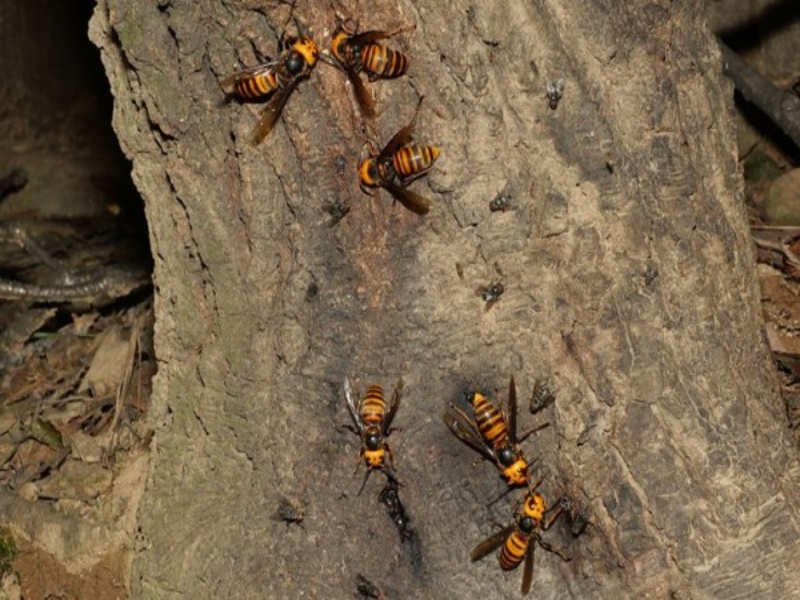asian_giant_hornet: (445, 376, 547, 488), (324, 12, 428, 117), (341, 364, 417, 495), (224, 9, 321, 111), (472, 488, 564, 592), (349, 129, 451, 207)
